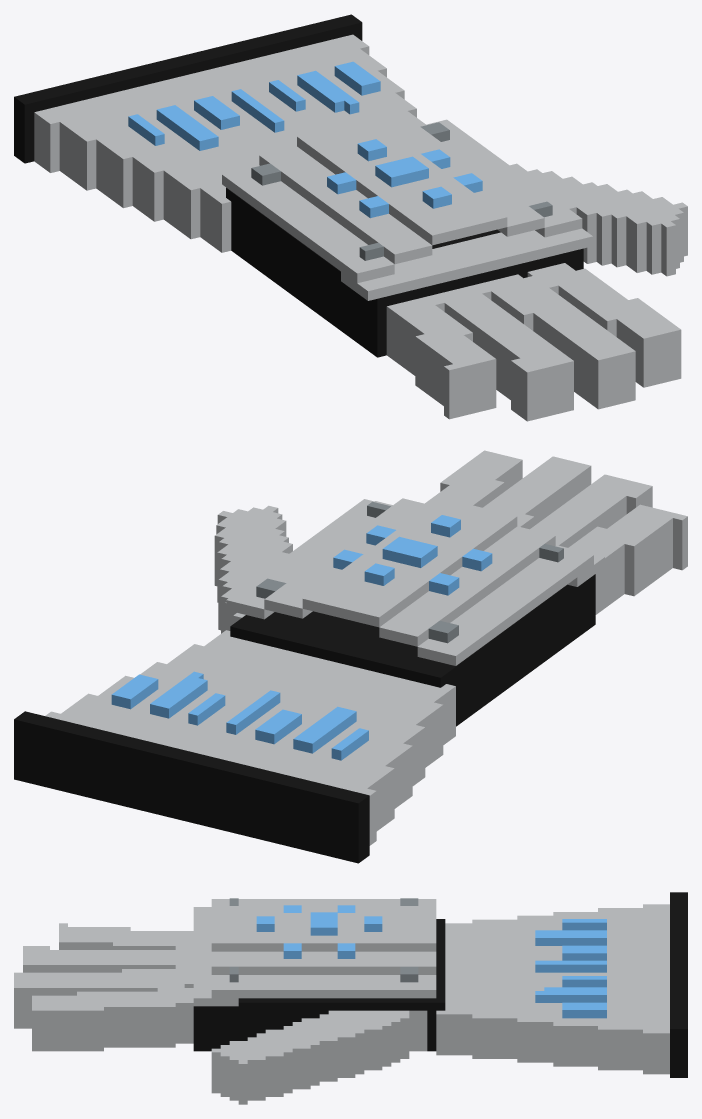
Rendered from gauntlet_pounding.glb.
The picture shows the model from 3 angles, top to bottom: view 1: azimuth 30°, elevation 25°; view 2: azimuth 150°, elevation 25°; view 3: azimuth 270°, elevation 25°; orthographic projection. The views are drawn at different scales.
Parts seen in each view (by area): view 1: gauntlet_pounding:compound; view 2: gauntlet_pounding:compound; view 3: gauntlet_pounding:compound.
Part boxes in pixels (bbox=[...]): gauntlet_pounding:compound: bbox=[14, 14, 687, 421]; gauntlet_pounding:compound: bbox=[14, 450, 687, 863]; gauntlet_pounding:compound: bbox=[14, 892, 687, 1104].
Size of the model in its own units: 0.172 by 0.044 by 0.3.
